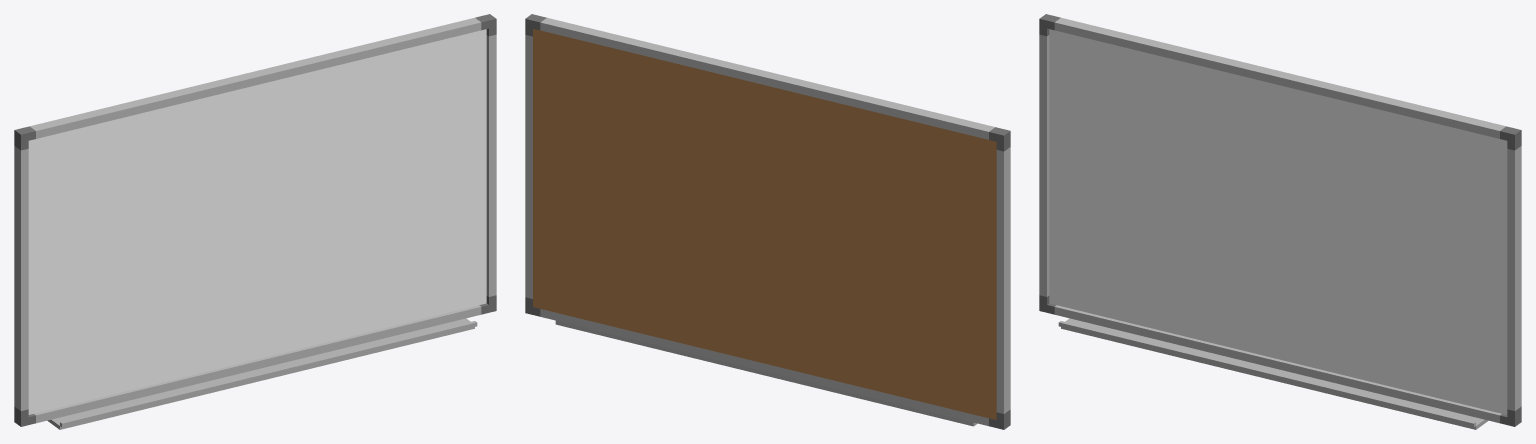
Rendered from White_Board2.fbx.
The picture shows the model from 3 angles, left to right: view 1: azimuth 30°, elevation 25°; view 2: azimuth 150°, elevation 25°; view 3: azimuth 330°, elevation 25°; orthographic projection.
Visible parts, largest first — view 1: White Board2; view 2: White Board2; view 3: White Board2.
Boxes of the visible parts, x1,y1,x2,y2 form: White Board2: (14,14,496,429); White Board2: (525,14,1010,429); White Board2: (1039,14,1521,429).
Bounding box in the file's own units: 12.6 × 7.5 × 0.8.
